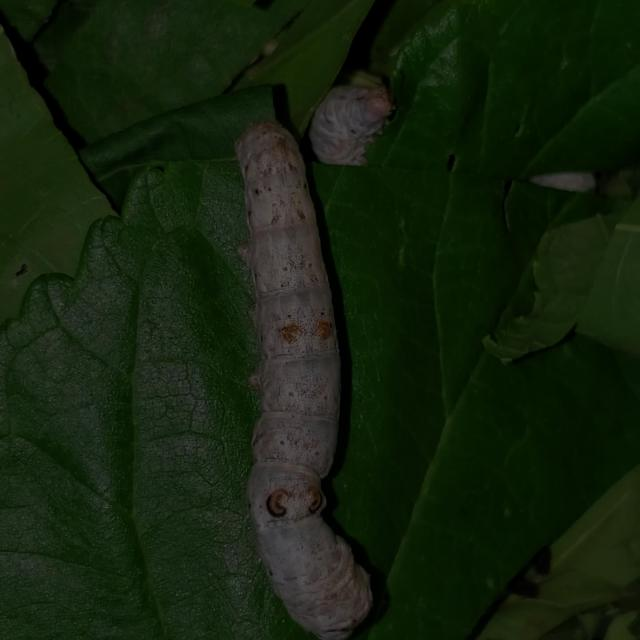Healthy: (218, 116, 385, 640)
